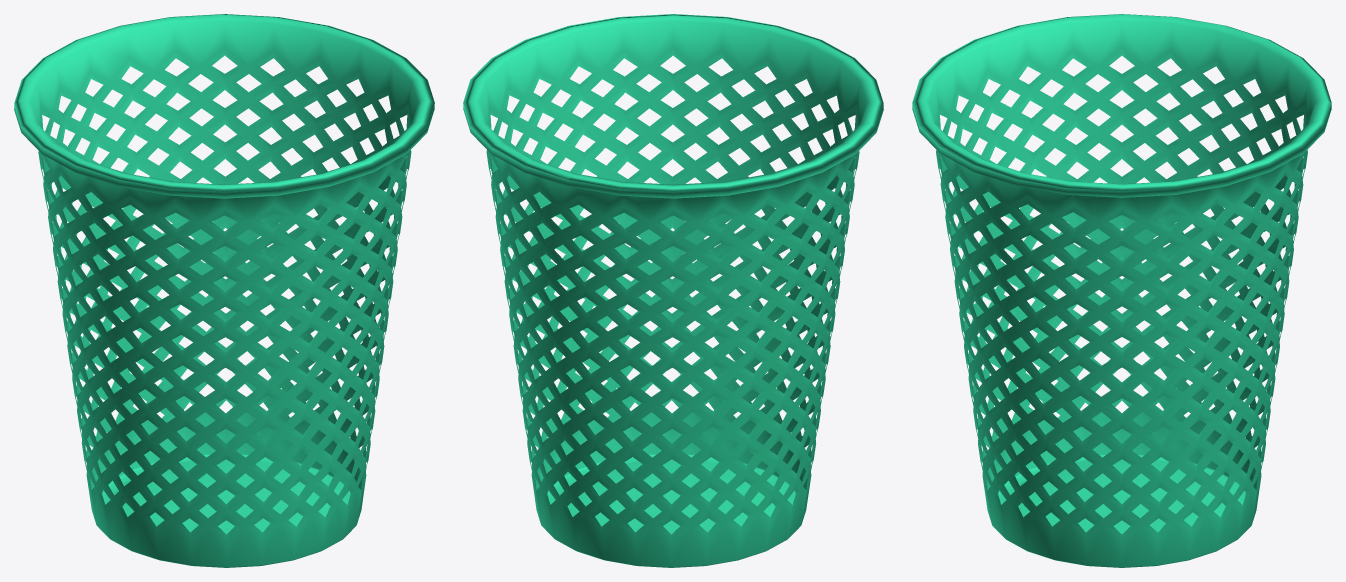
File: tempat sampah.fbx
3 renders of one model, left to right at view 1: azimuth 30°, elevation 25°; view 2: azimuth 150°, elevation 25°; view 3: azimuth 270°, elevation 25°, orthographic.
Visible parts, largest first — view 1: Cylinder; view 2: Cylinder; view 3: Cylinder.
Part boxes in pixels (<box>): Cylinder: <box>14,14,434,567</box>; Cylinder: <box>463,14,883,567</box>; Cylinder: <box>912,14,1331,567</box>.
Bounding box in the file's own units: 242 × 261 × 242.
